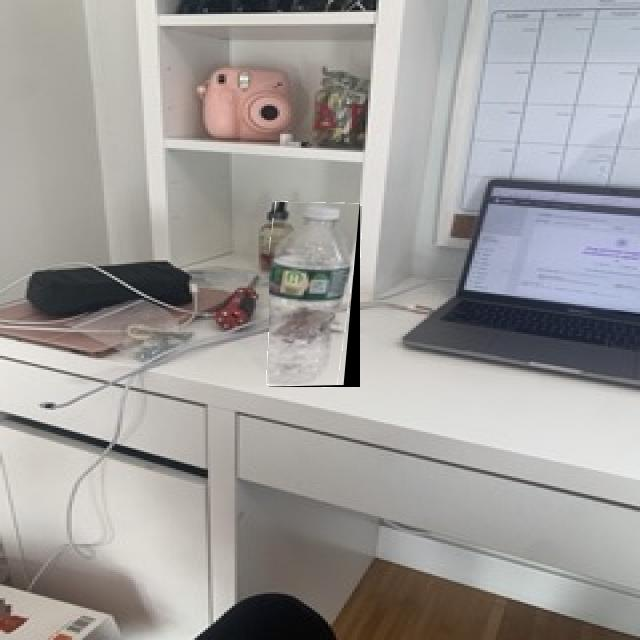water_bottle: (269, 202, 360, 387)
